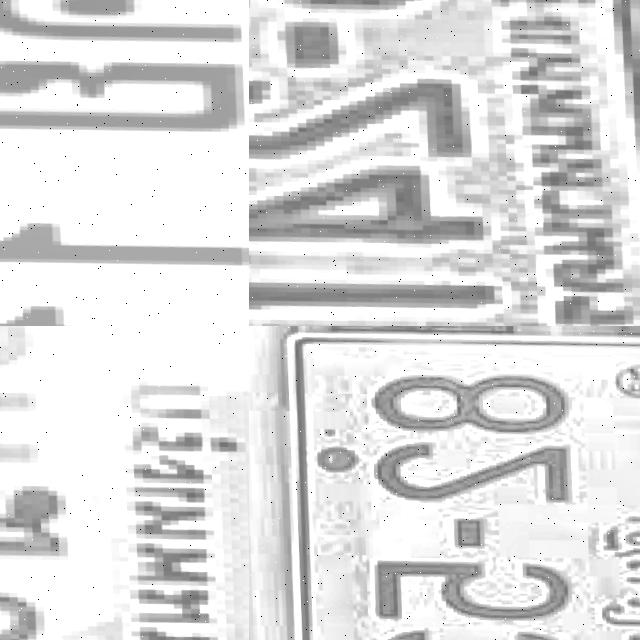license-plate: (249, 0, 640, 326), (269, 326, 640, 640), (0, 0, 249, 326), (0, 326, 249, 640)
